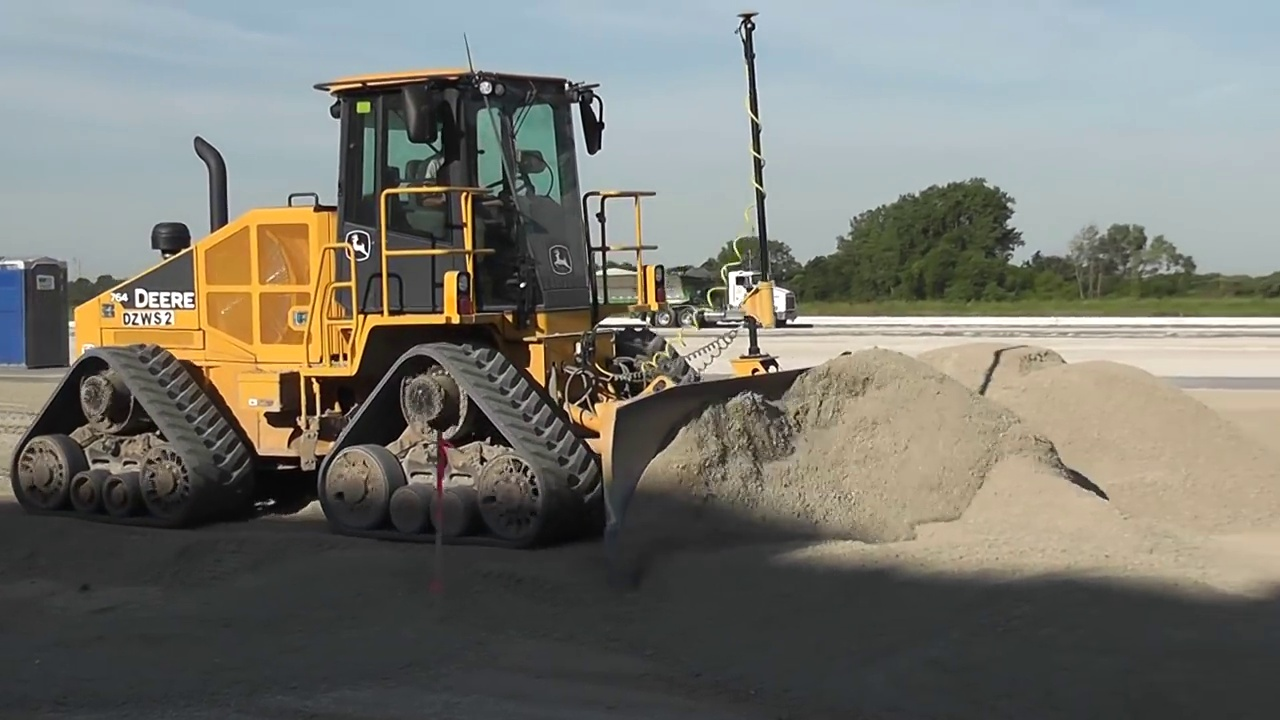bulldozer: (7, 67, 1011, 545)
